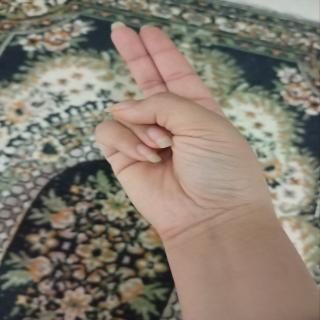TA: (79, 15, 275, 256)
